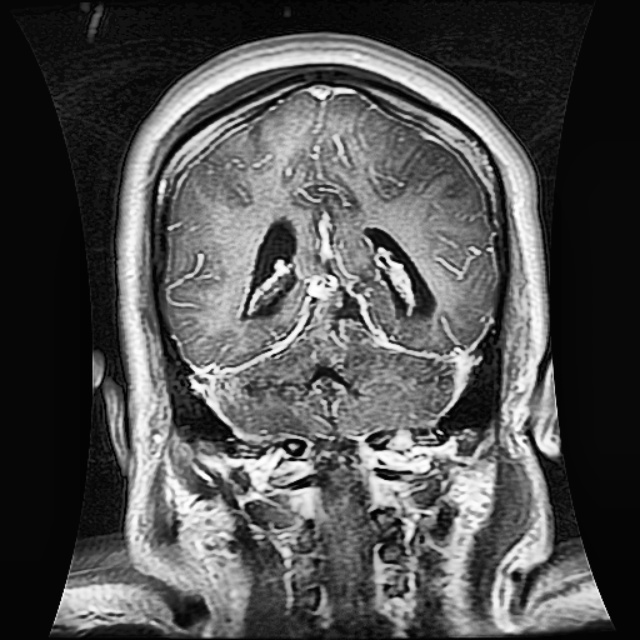Meningioma: (295, 213, 372, 334)
